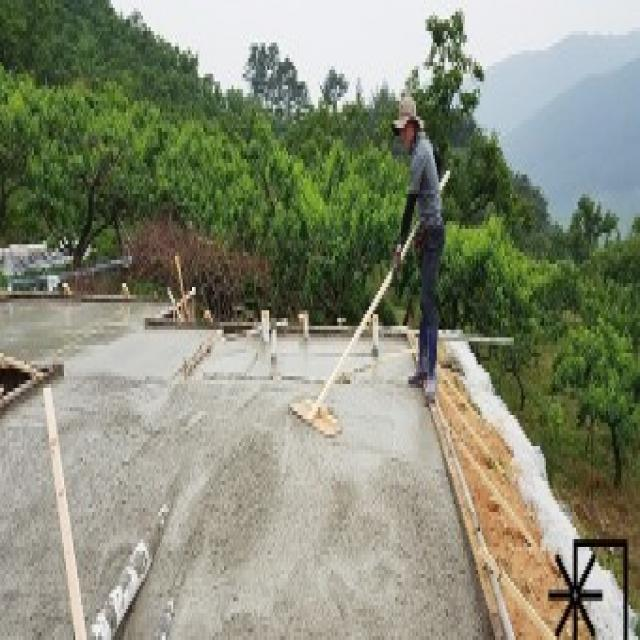long handle float: (289, 170, 450, 438)
